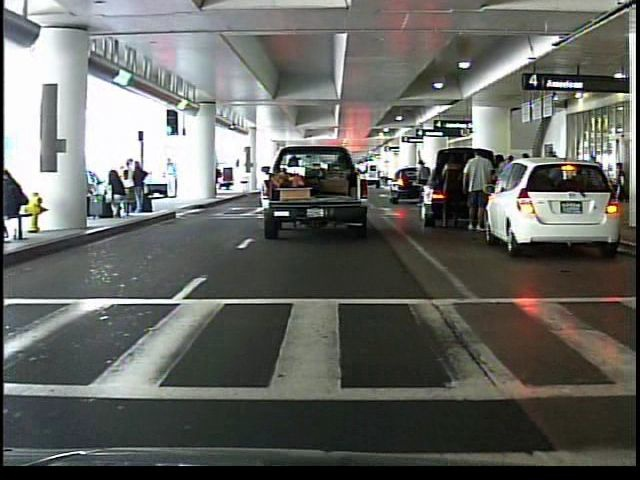person: (461, 145, 494, 236), (433, 144, 466, 230), (412, 156, 432, 207), (163, 156, 181, 199), (613, 158, 627, 186)
